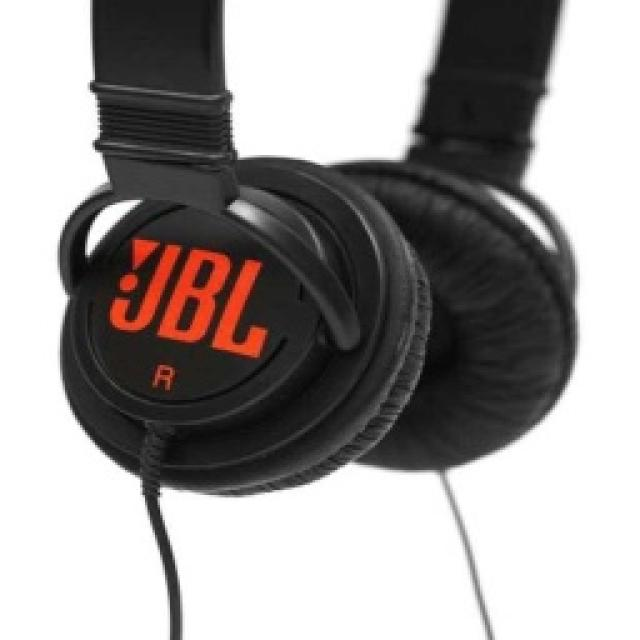headphones: (58, 8, 602, 526)
